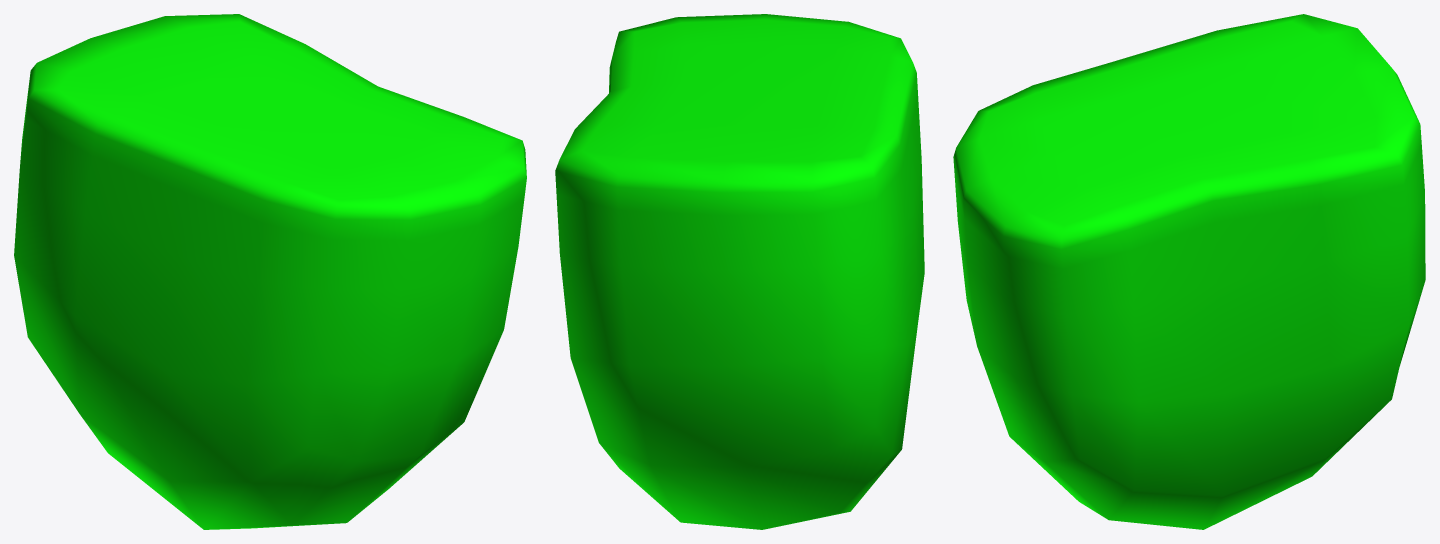
The model's file is Bridge Island Layer 2.fbx.
3 views of the same model, side by side, from view 1: azimuth 30°, elevation 25°; view 2: azimuth 150°, elevation 25°; view 3: azimuth 270°, elevation 25° (orthographic). The views are drawn at different scales.
Parts seen in each view (by area): view 1: Bridge Island Layer; view 2: Bridge Island Layer; view 3: Bridge Island Layer.
Boxes of the visible parts, x1,y1,x2,y2 form: Bridge Island Layer: (14,14,526,529); Bridge Island Layer: (555,14,924,529); Bridge Island Layer: (953,14,1425,529).
Size of the model in its own units: 14.1 by 15.12 by 15.27.
